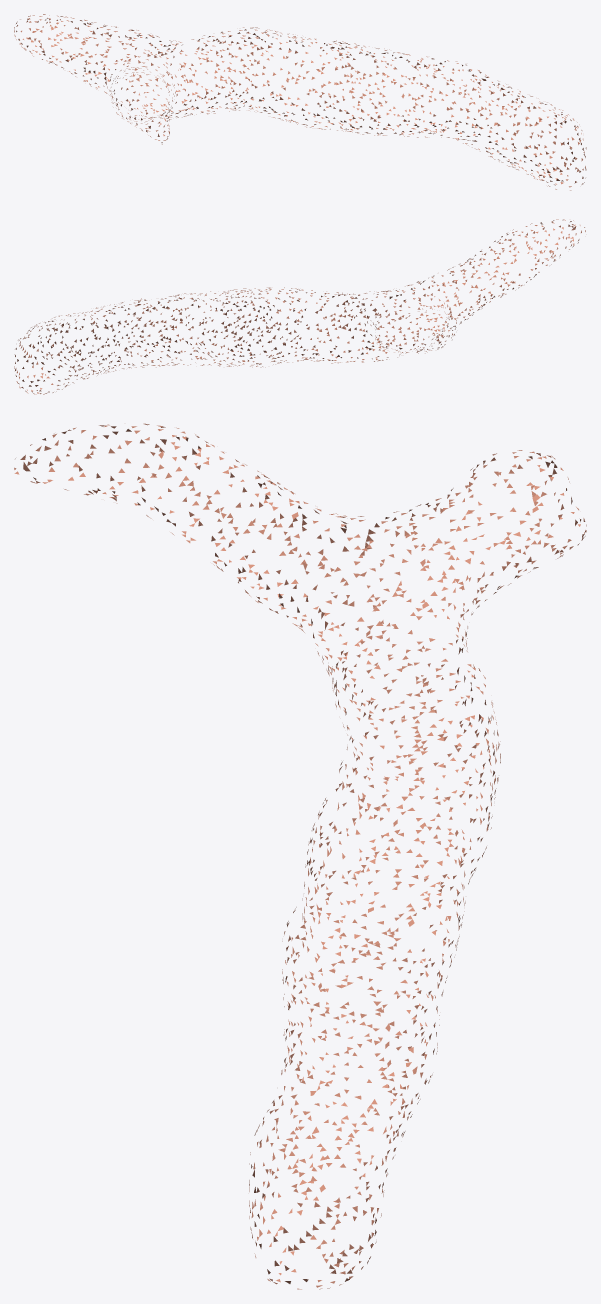
File: morph_003.glb
3 renders of one model, top to bottom at view 1: azimuth 30°, elevation 25°; view 2: azimuth 150°, elevation 25°; view 3: azimuth 270°, elevation 25°, orthographic. The views are drawn at different scales.
Bounding box in the file's own units: 113 × 53.75 × 62.16.
